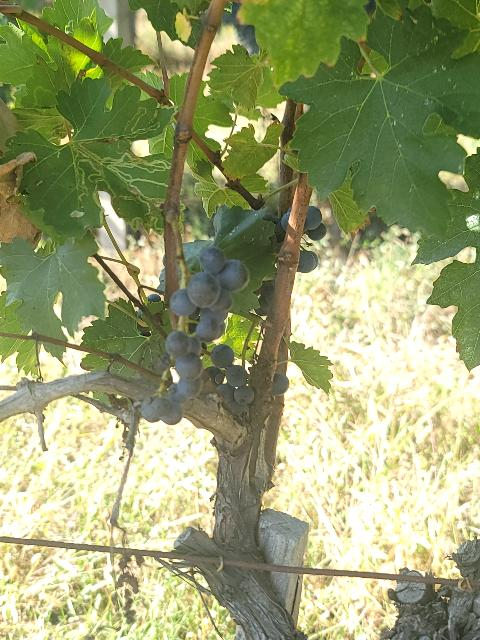grapes: (170, 245, 250, 342), (141, 330, 204, 425), (206, 344, 255, 414)
